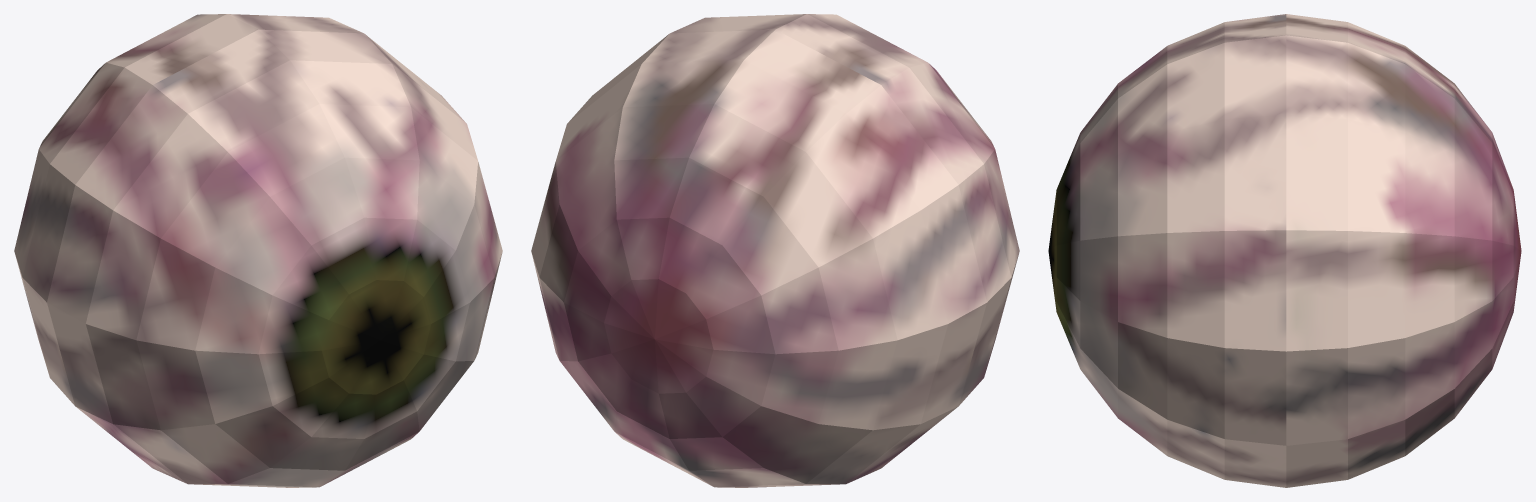
The model's file is eyeball.glb.
3 views of the same model, side by side, from view 1: azimuth 30°, elevation 25°; view 2: azimuth 150°, elevation 25°; view 3: azimuth 270°, elevation 25° (orthographic). The views are drawn at different scales.
Parts seen in each view (by area): view 1: nolids; view 2: nolids; view 3: nolids.
Part boxes in pixels (box(x1,y1,x2,y2)): nolids: box(14, 14, 502, 487); nolids: box(531, 14, 1019, 487); nolids: box(1048, 14, 1521, 487).
Bounding box in the file's own units: 2 × 2 × 1.99.
Materials: 1 (1 with a texture image).
